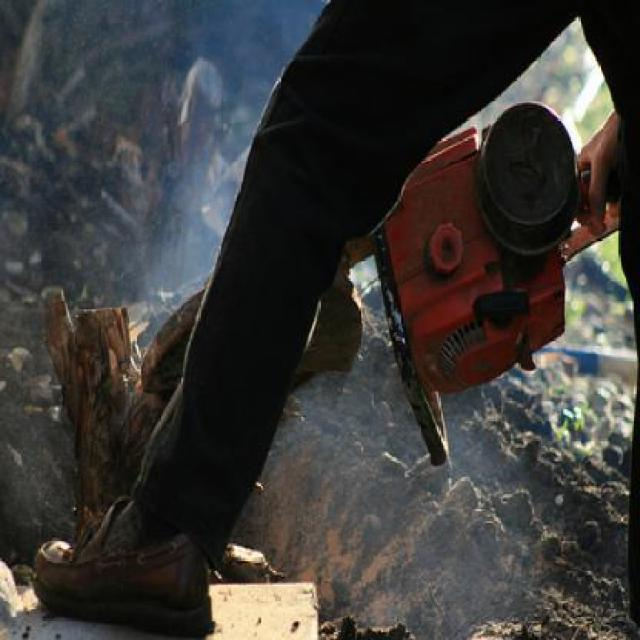Chainsaw: (339, 92, 615, 463)
